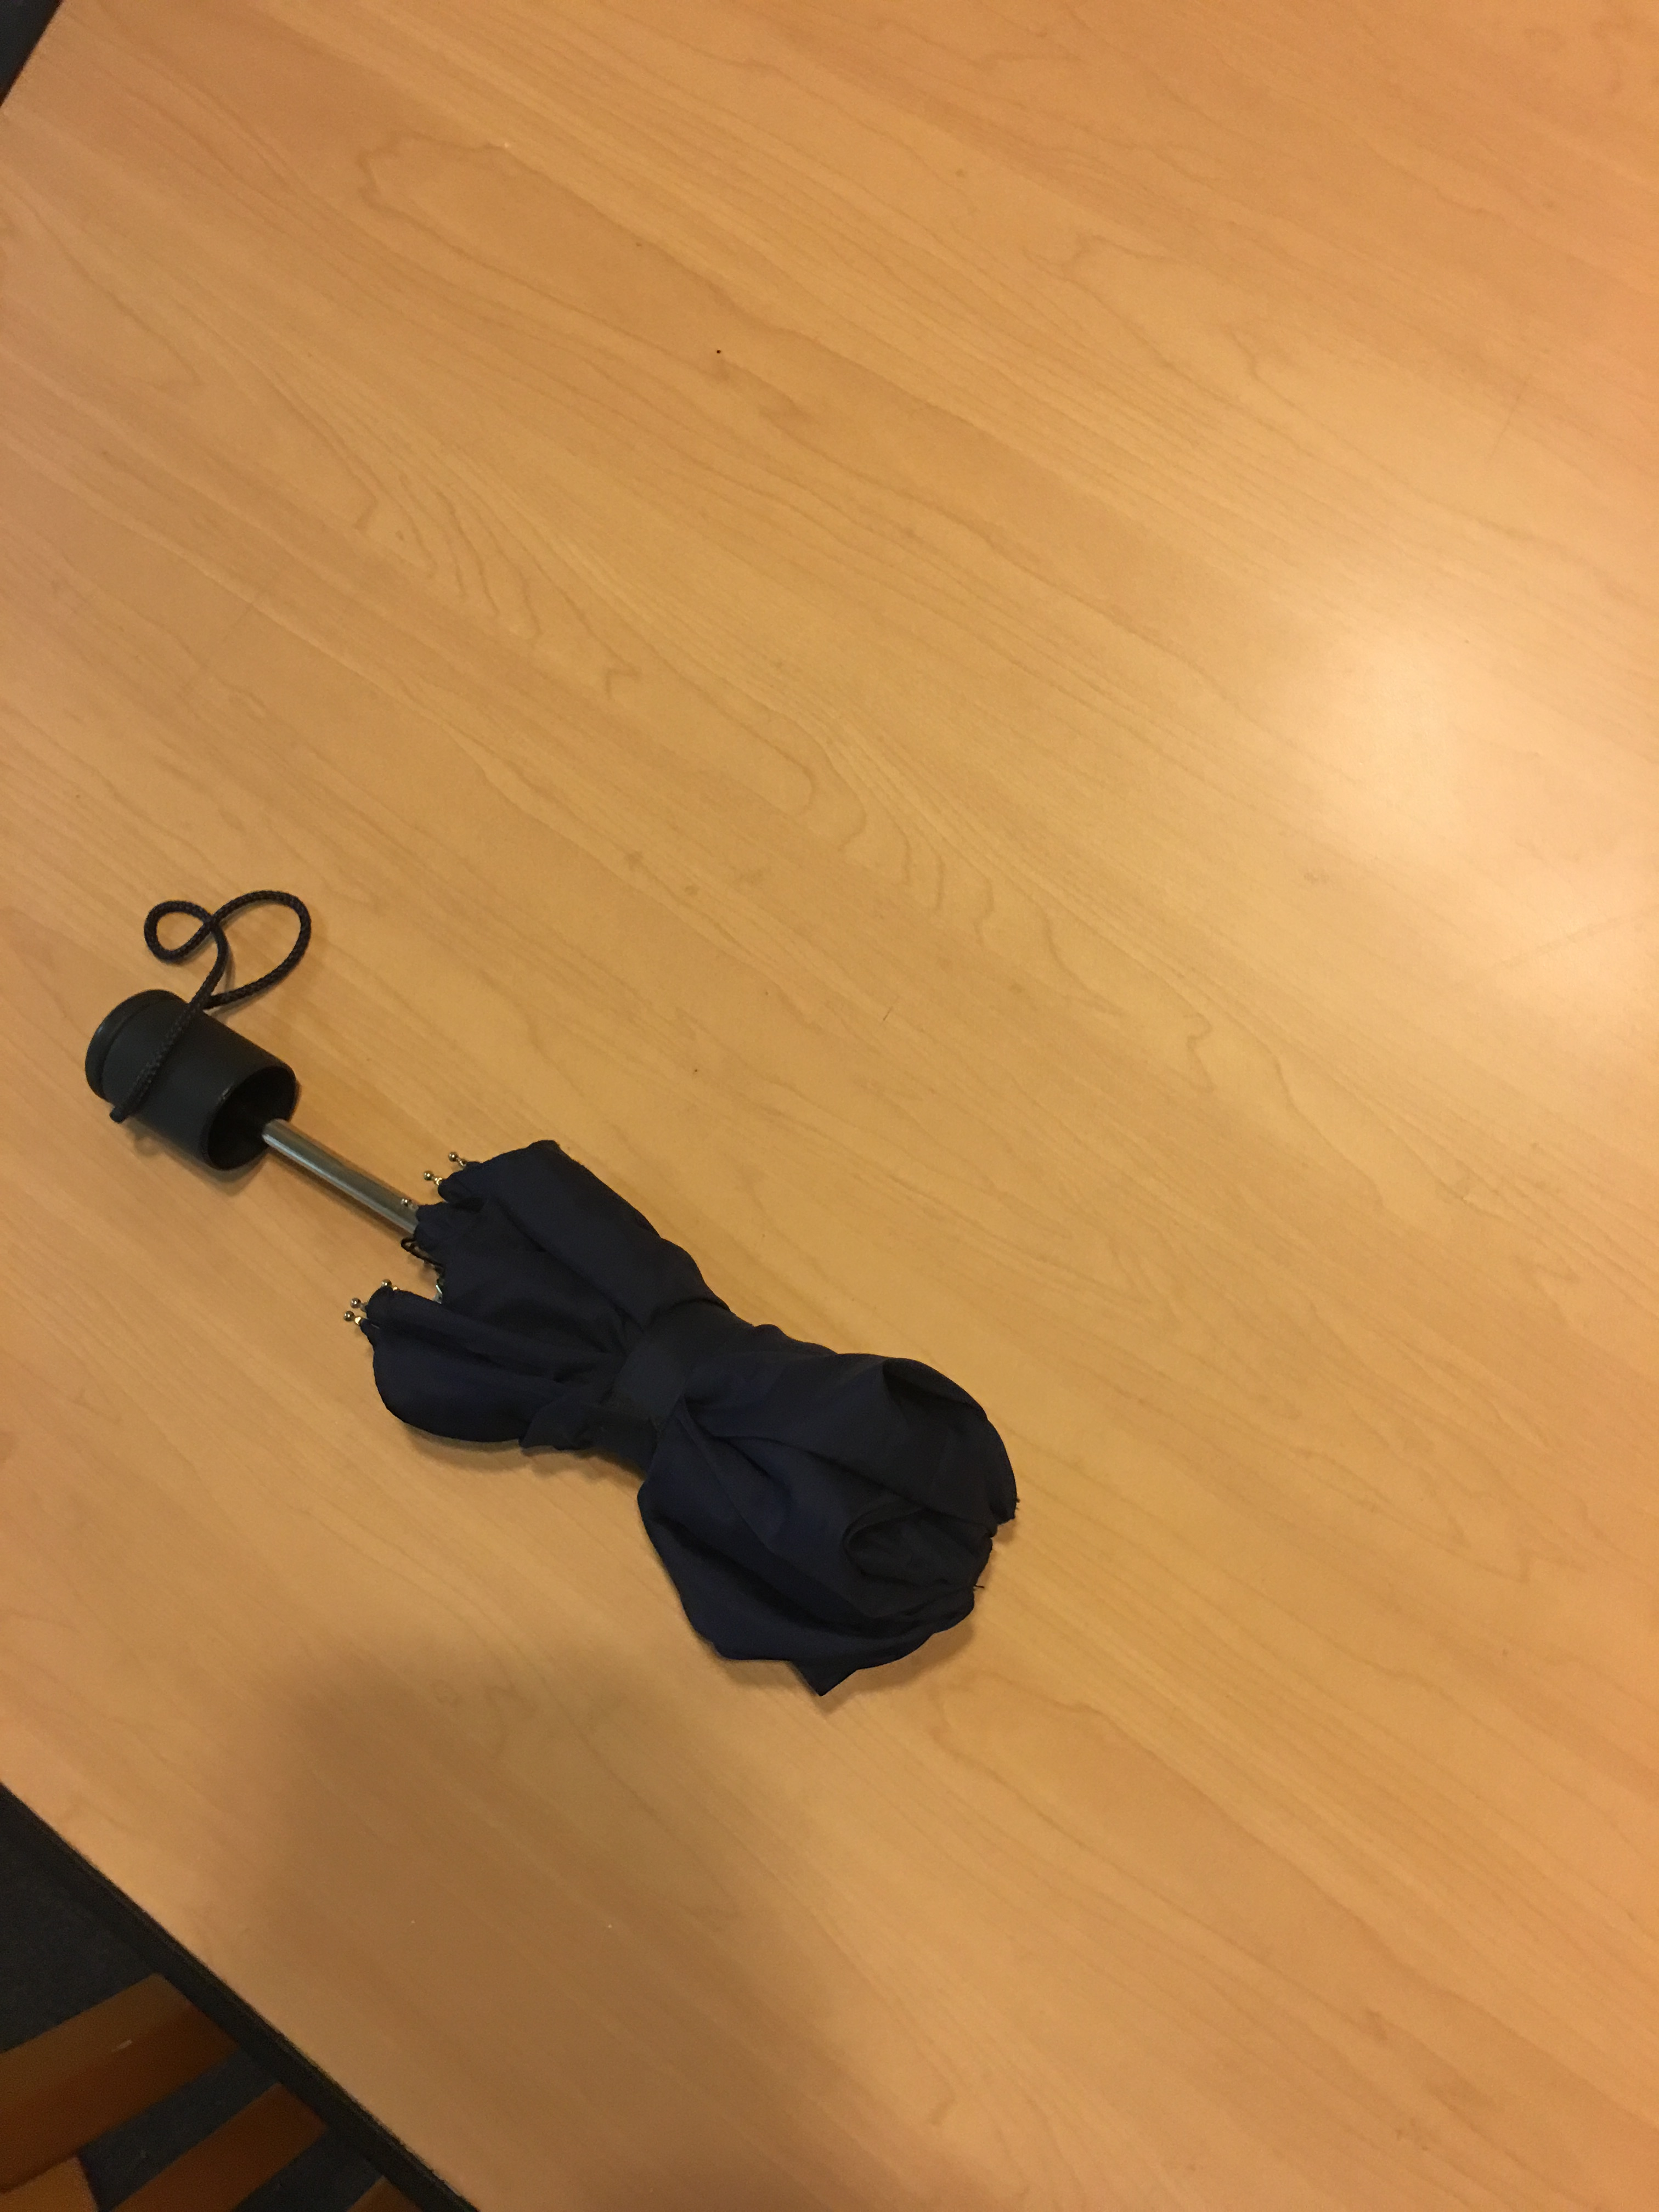Umbrella: (51, 918, 1049, 1693)
